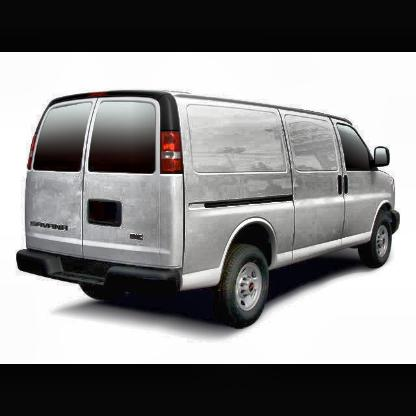GMC Savana Van 2012: (15, 89, 403, 331)
